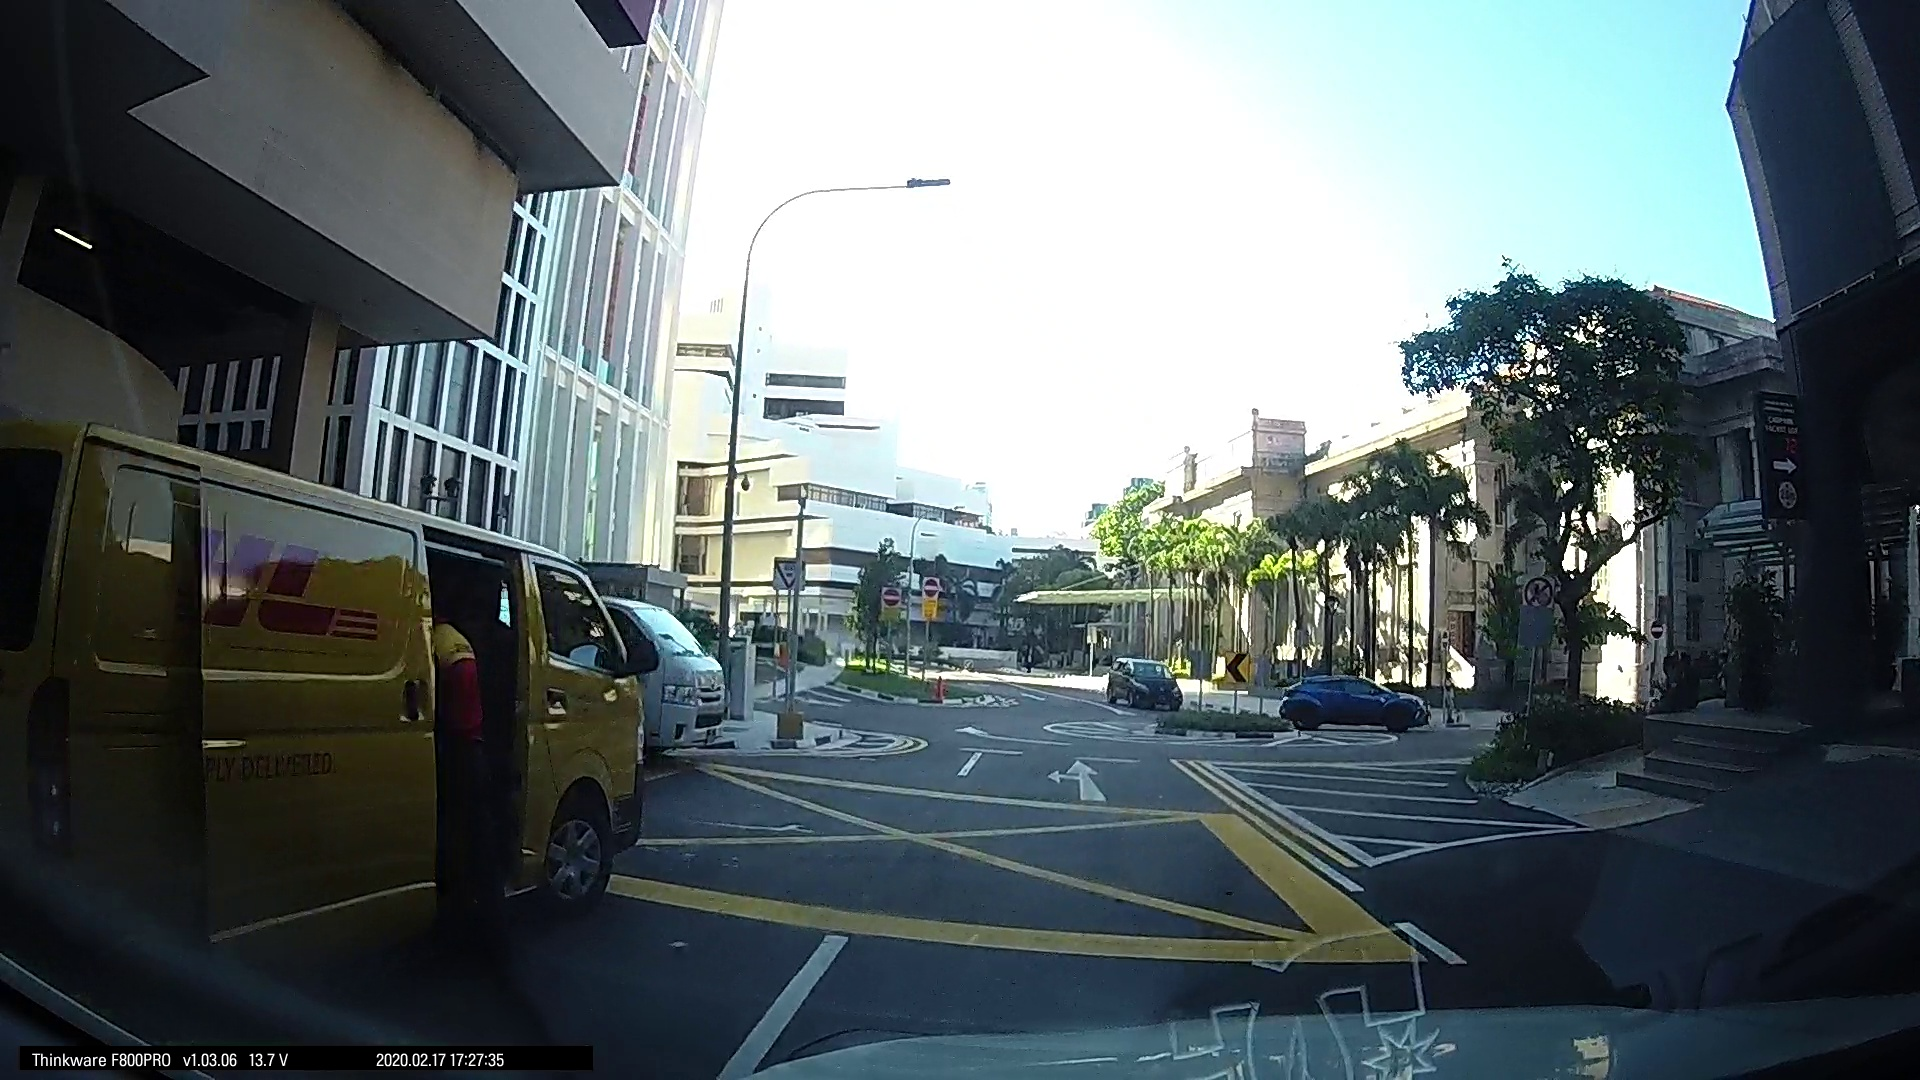Light Vehicle: (9, 436, 675, 1000), (604, 583, 735, 757), (1278, 669, 1425, 732), (1104, 649, 1182, 709)
